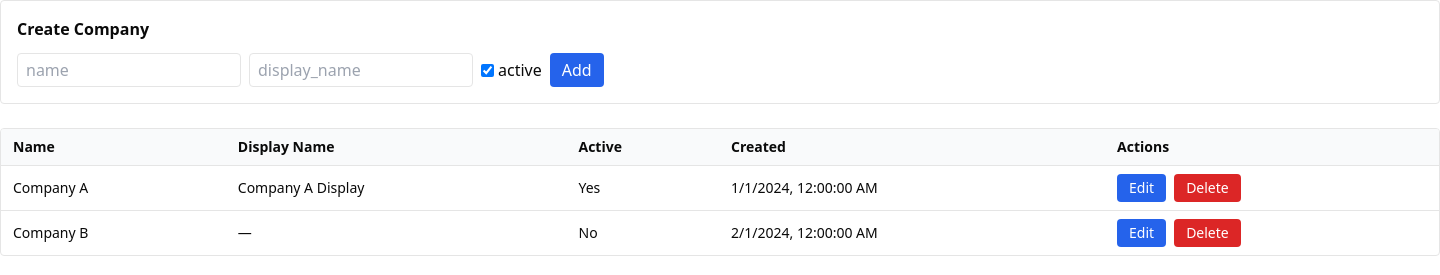
Scenario: CompaniesCrud › cancels edit mode
Expected: the text "Company A" is shown, [1,166,226,210]
Click the button "Edit" in the row of "Company A Display" at x=1142, y=188, box [1117,174,1166,202]
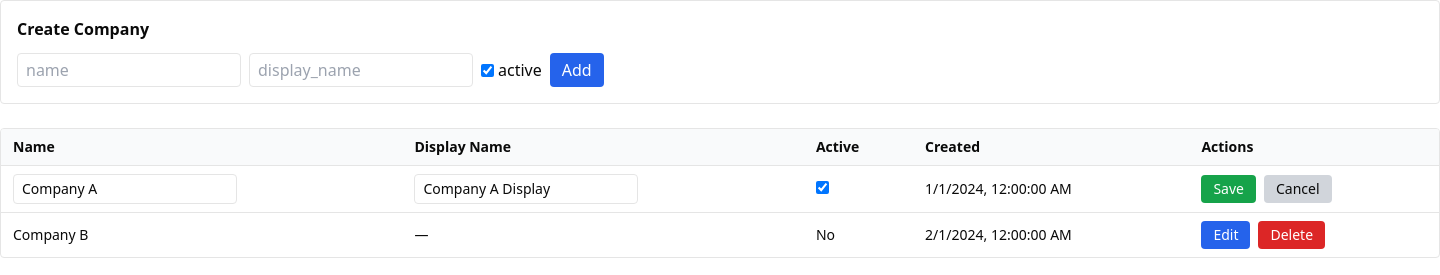
Now the button "Cancel" is shown
Click the button "Cancel" at x=1298, y=189, box [1264,175,1332,203]
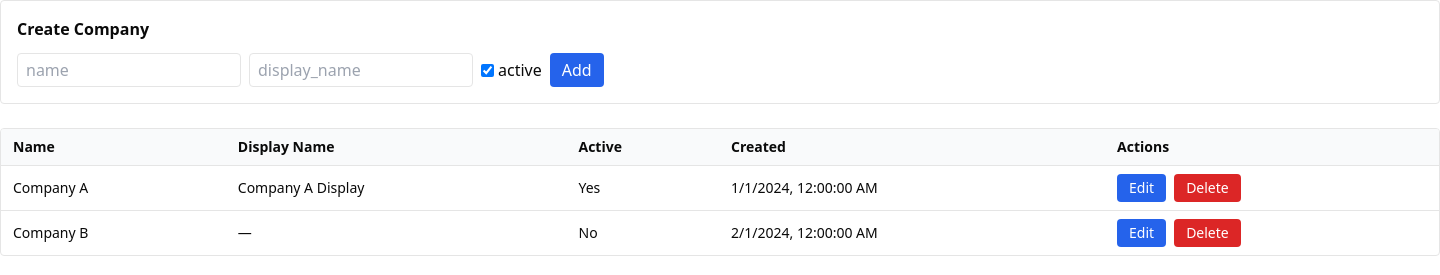
Now the button "Save" is gone
